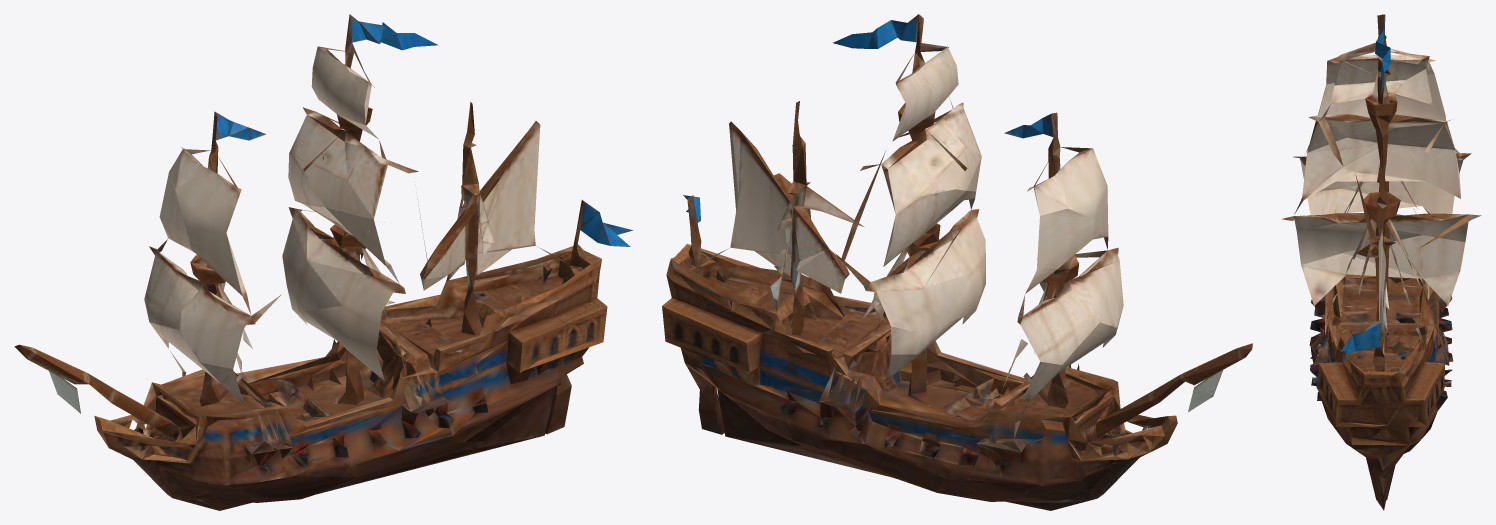
File: galleon.glb
3 views of the same model, side by side, from view 1: azimuth 30°, elevation 25°; view 2: azimuth 150°, elevation 25°; view 3: azimuth 270°, elevation 25° (orthographic). The views are drawn at different scales.
Bounding box in the file's own units: 1.9 × 1.42 × 0.6383.
Materials: 1 (1 with a texture image).
